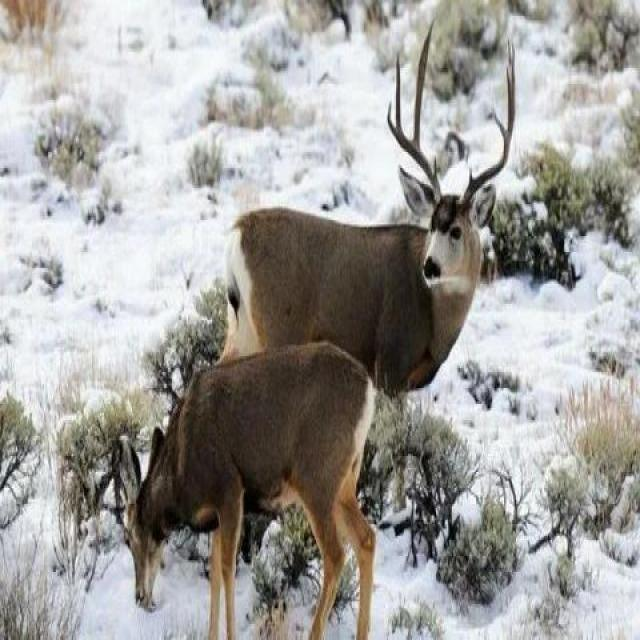deer: (168, 128, 526, 444), (97, 326, 407, 609)
